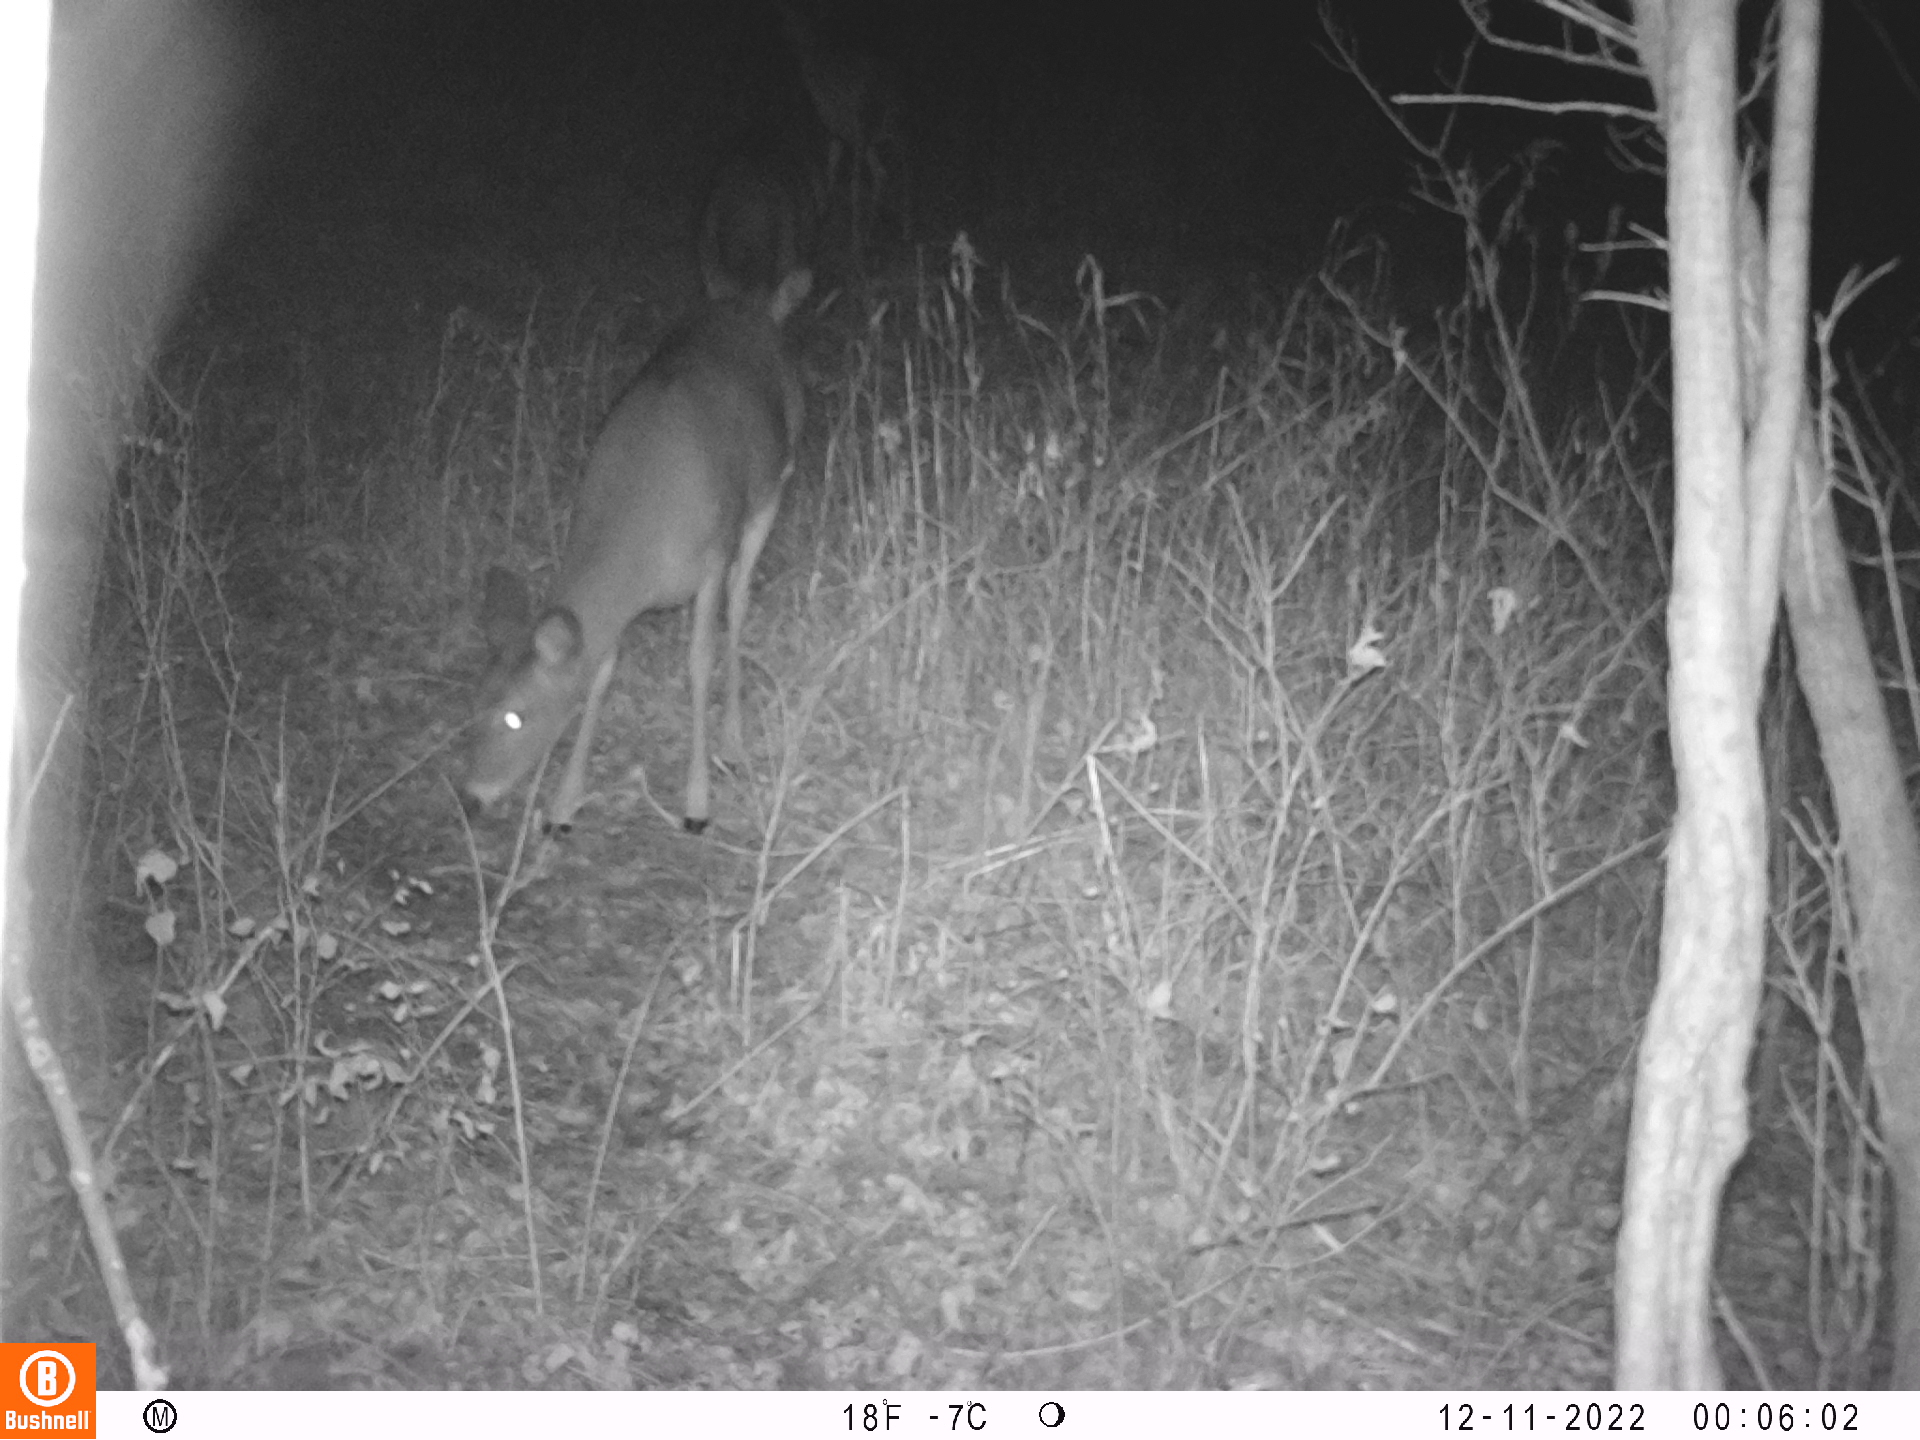Deer: (774, 3, 915, 239)
DeerDoe: (451, 225, 816, 835)
